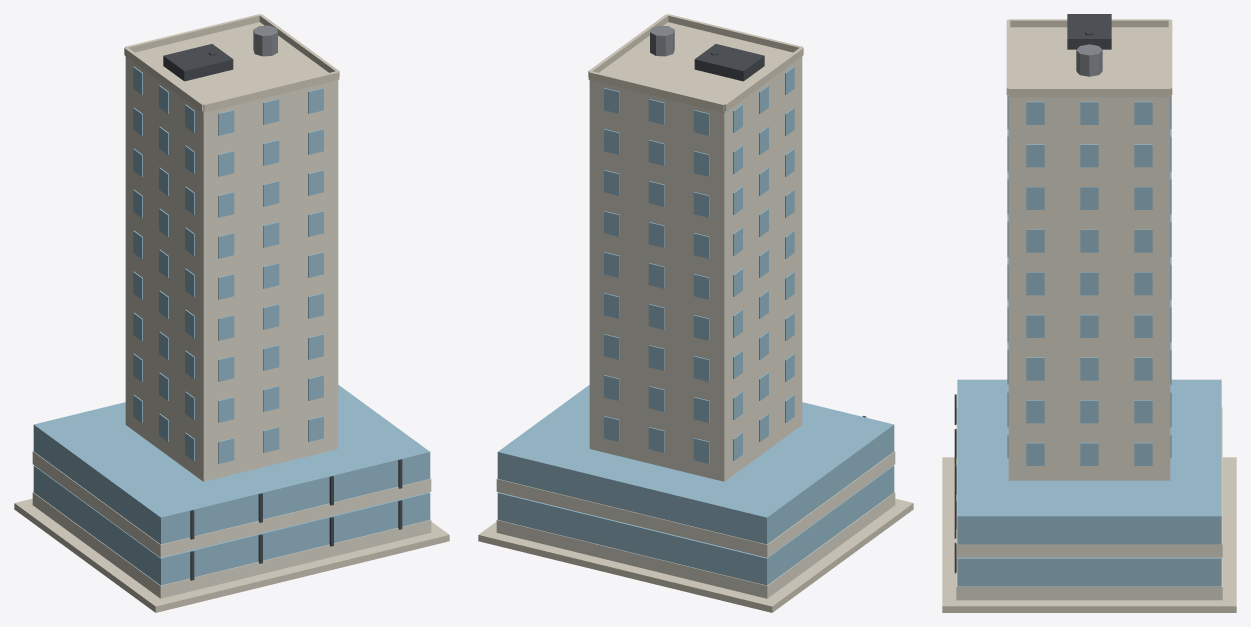
The model's file is building.skyscraper-podium.glb.
3 views of the same model, side by side, from view 1: azimuth 30°, elevation 25°; view 2: azimuth 150°, elevation 25°; view 3: azimuth 270°, elevation 25° (orthographic). The views are drawn at different scales.
Parts seen in each view (by area): view 1: building.skyscraper-podium; view 2: building.skyscraper-podium; view 3: building.skyscraper-podium.
Part boxes in pixels (box(x1,y1,x2,y2)): building.skyscraper-podium: box(14, 14, 449, 612); building.skyscraper-podium: box(478, 14, 913, 612); building.skyscraper-podium: box(942, 14, 1236, 612).
Size of the model in its own units: 24 by 37.95 by 20.
